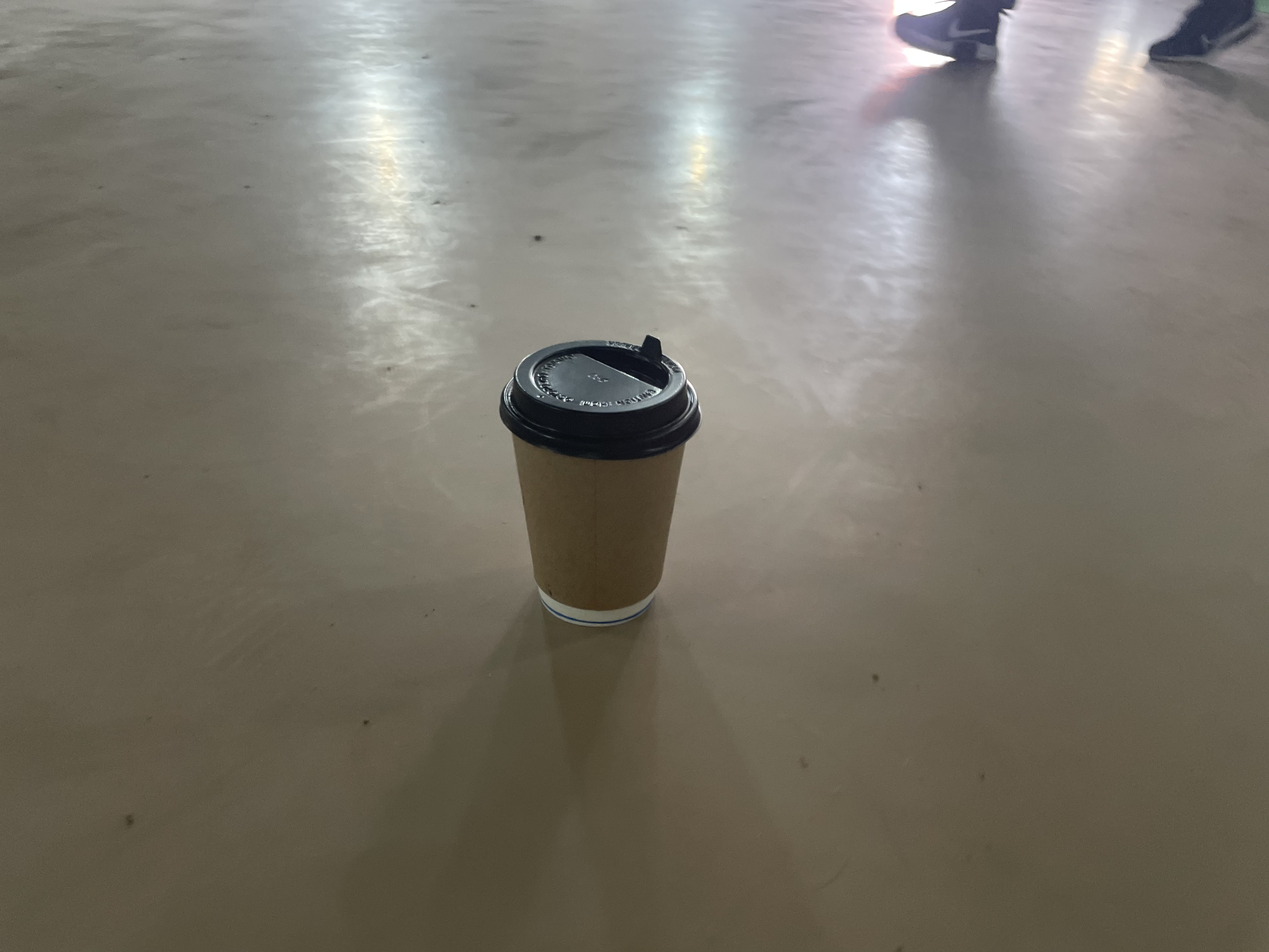cup: (500, 336, 700, 628)
